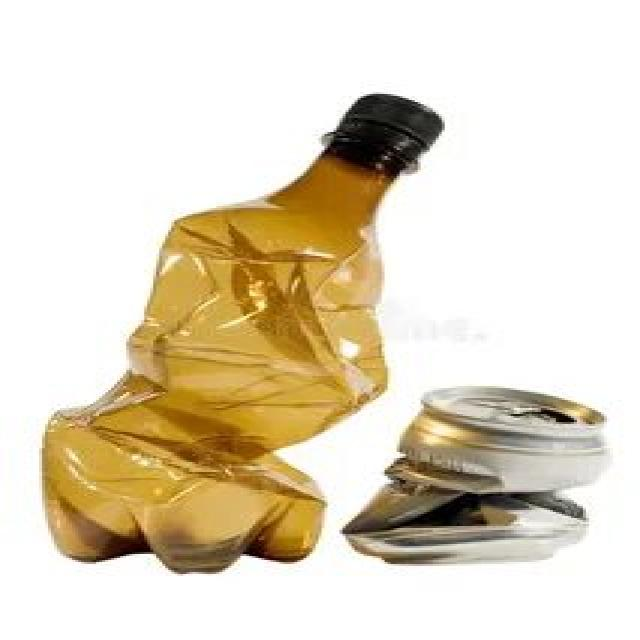brown: (38, 128, 388, 575)
